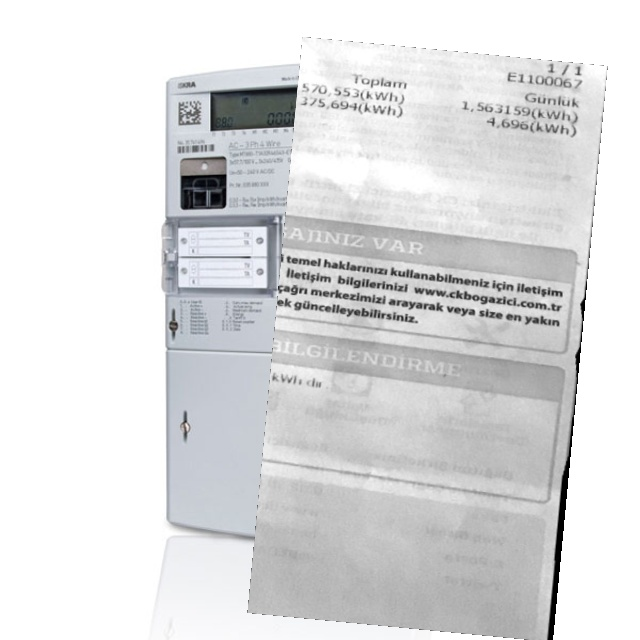electricity-bill: (247, 37, 608, 639)
